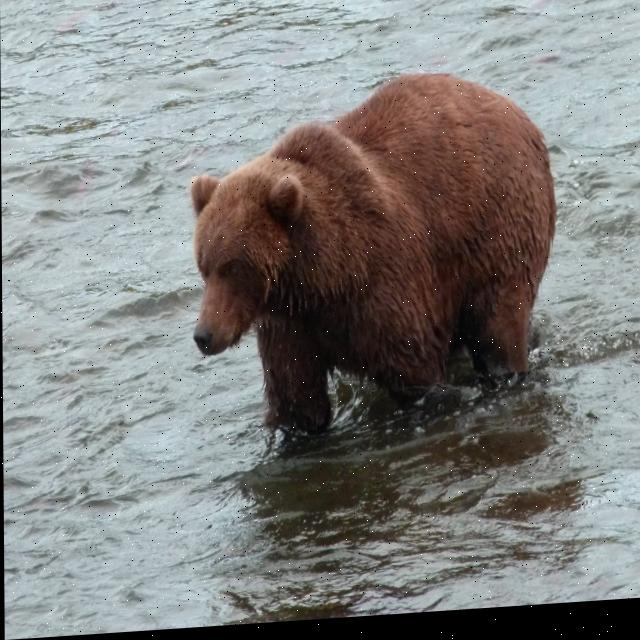bear face: (189, 74, 555, 435)
